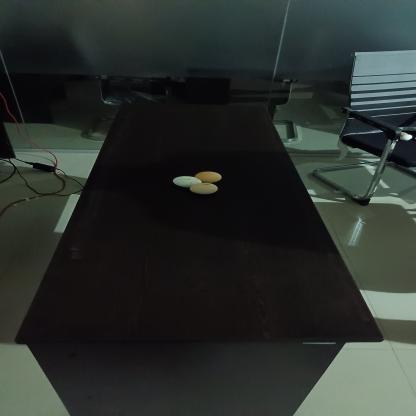egg: (187, 182, 221, 196), (172, 175, 204, 189), (197, 170, 222, 182)
